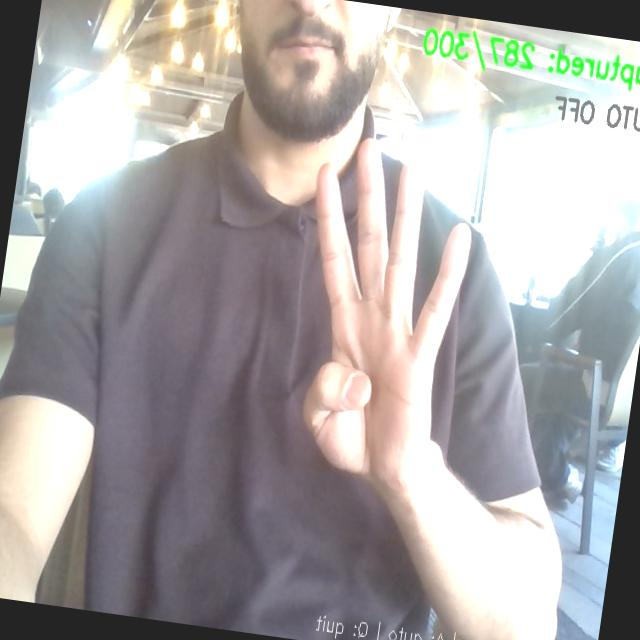Hand: (304, 140, 470, 490)
